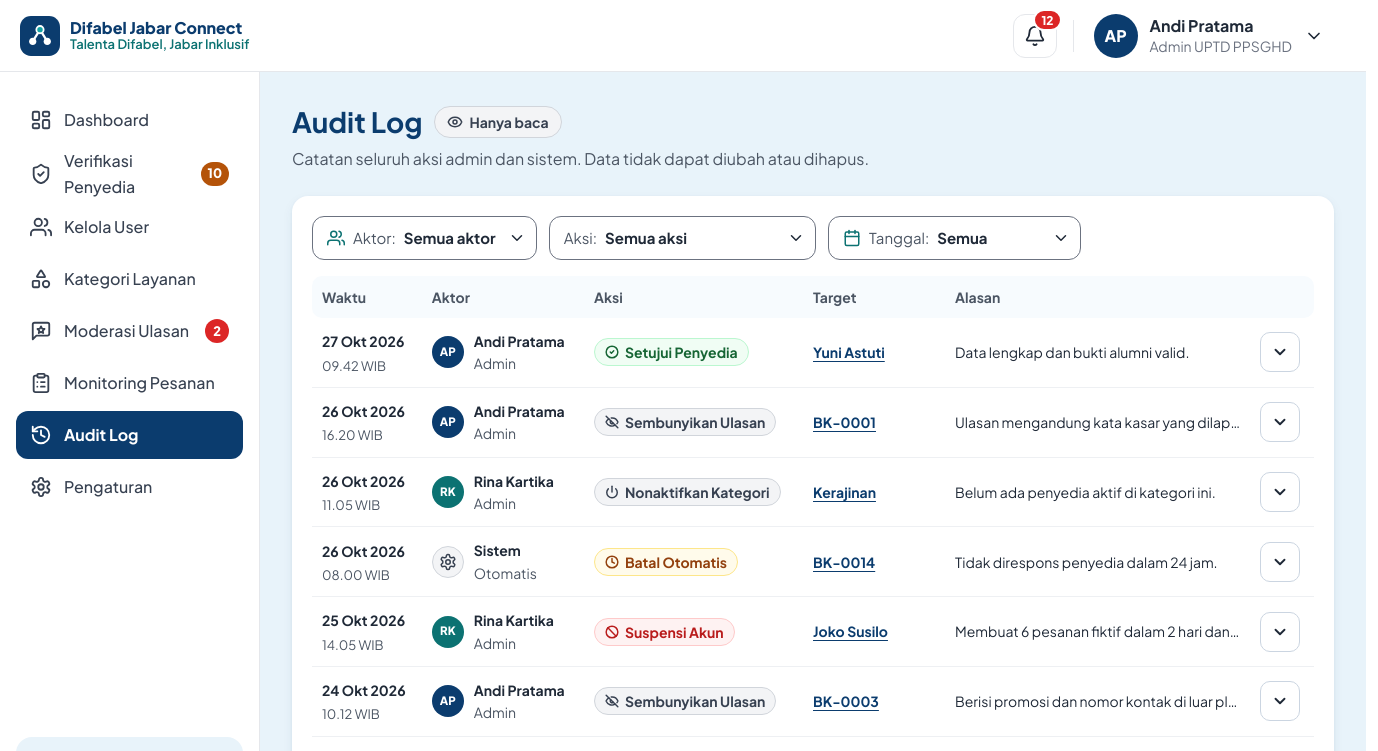
Test case: Audit Log › membuka detail log: alasan lengkap, sebelum → sesudah, dan ID log
Click the button named "Lihat detail log 25 Okt 2026 14.05 WIB" at (1280, 632), box [1260,612,1300,652]
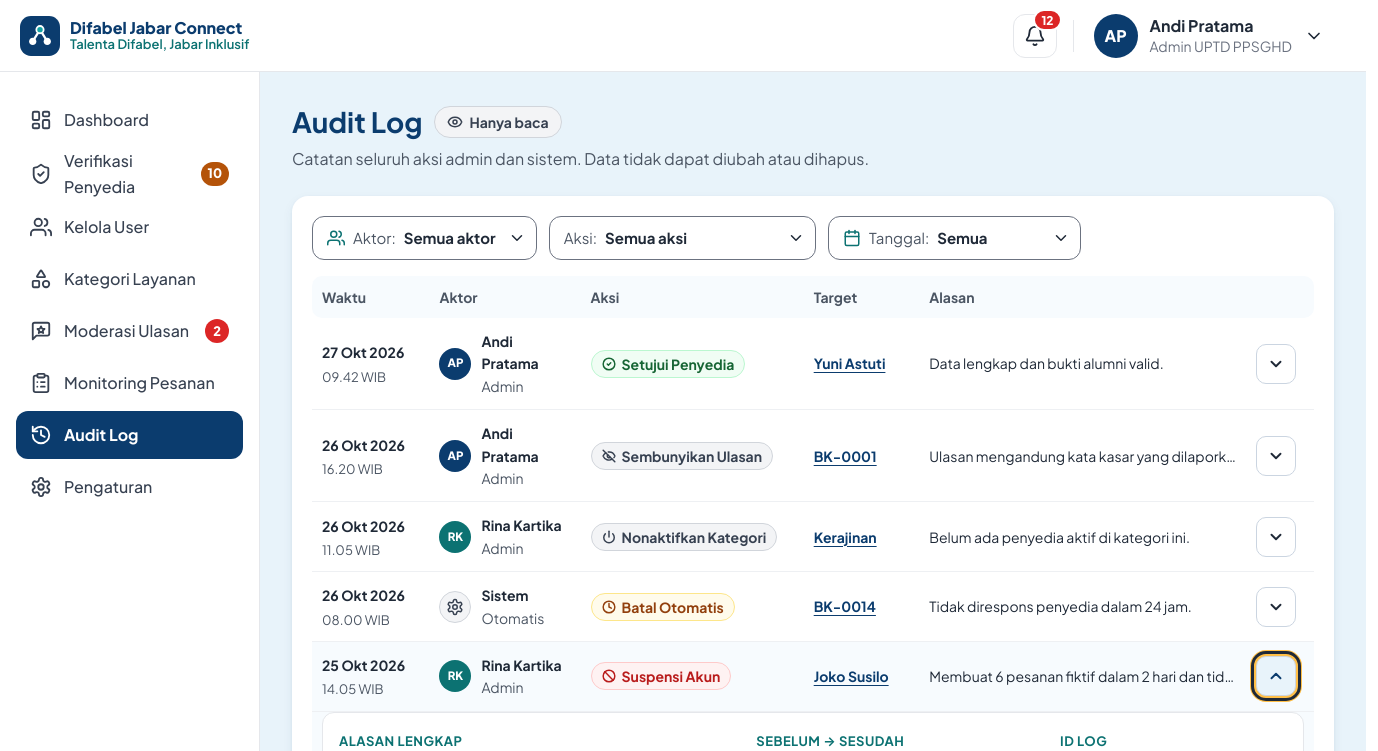
Check: the button named "Lihat detail log 25 Okt 2026 14.05 WIB" is expanded, box [1256,656,1296,696]
